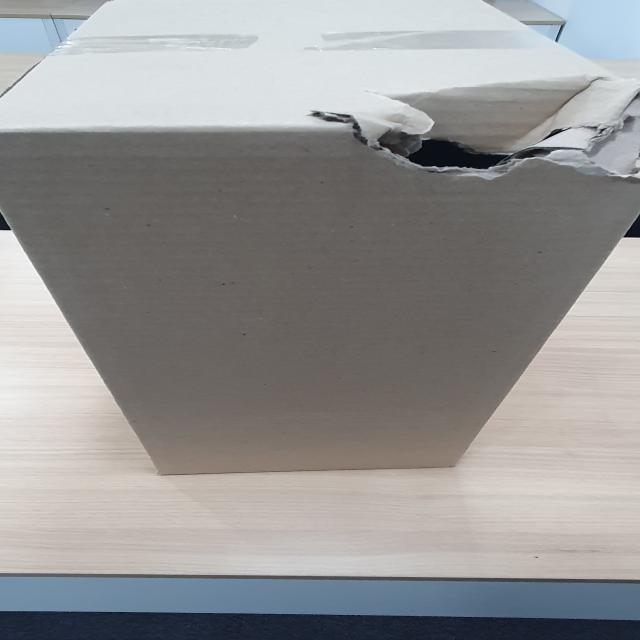hole: (319, 80, 640, 192)
